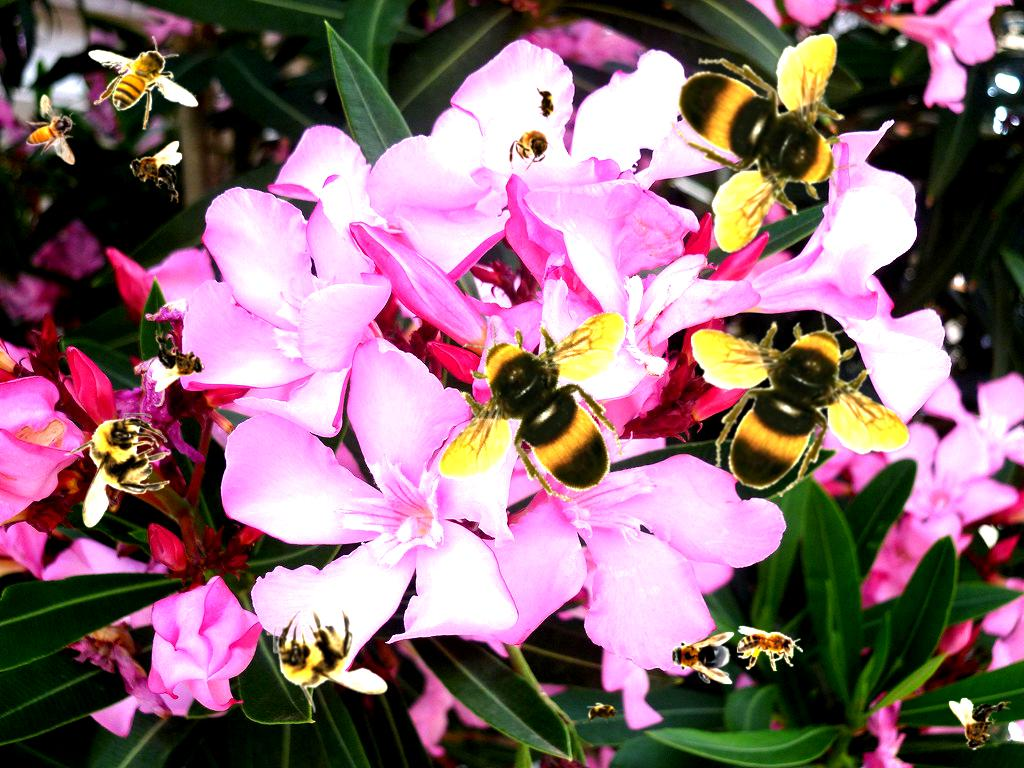Bee: (413, 260, 675, 539), (691, 306, 911, 497), (669, 34, 860, 254), (273, 606, 388, 713), (64, 413, 171, 528), (88, 36, 199, 130), (502, 107, 563, 177), (26, 94, 76, 165), (666, 632, 734, 684), (152, 330, 205, 392), (129, 141, 182, 203), (949, 698, 1011, 751), (737, 626, 803, 671), (535, 84, 557, 124), (583, 702, 623, 724)
